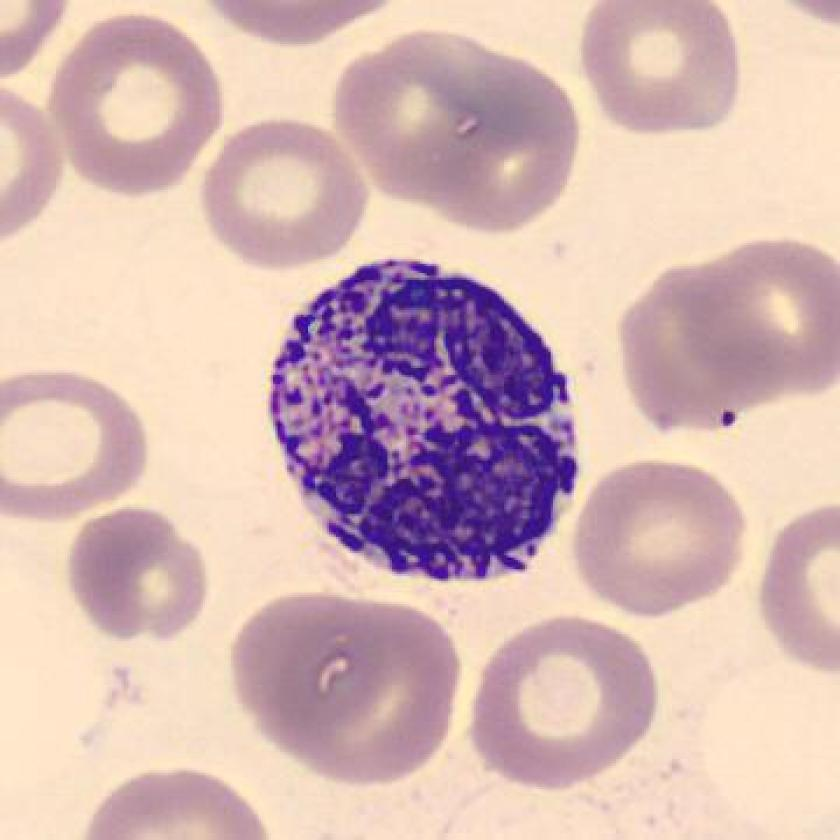basophil: (256, 249, 592, 596)
